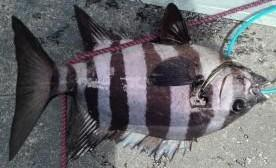fish: (9, 3, 271, 164)
